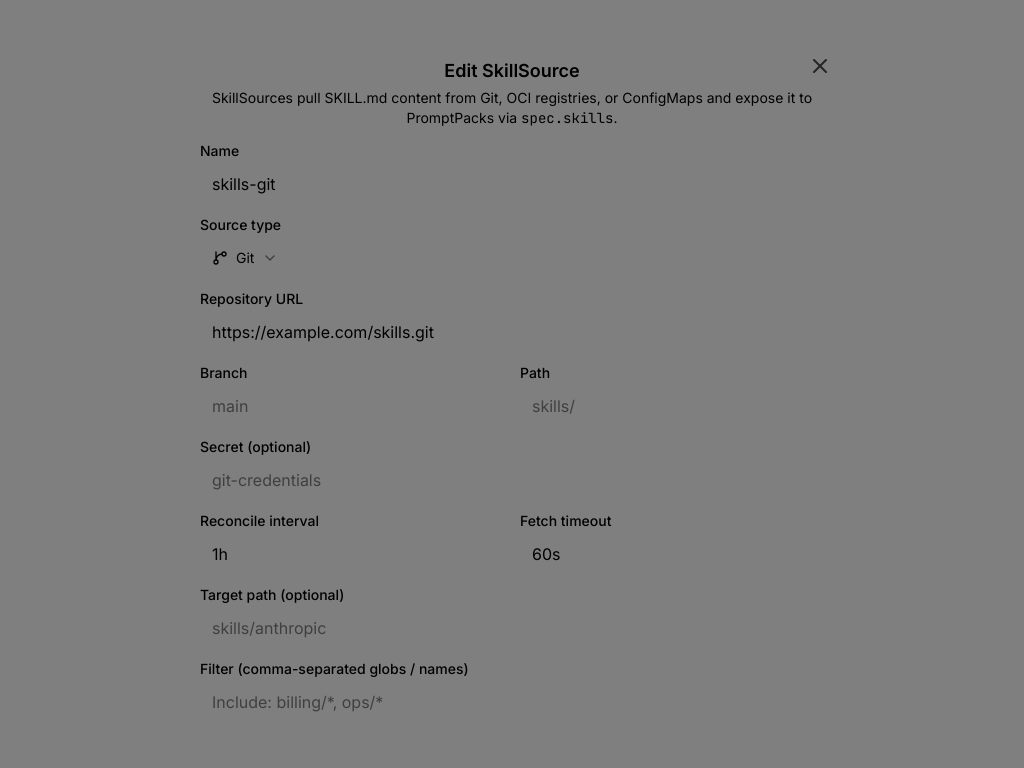
SkillSourceDialog › shows inline git URL error for non-matching pattern
Replace the text in the field labelled "Repository URL" with "not-a-url": (512, 332) [200,314,824,350]
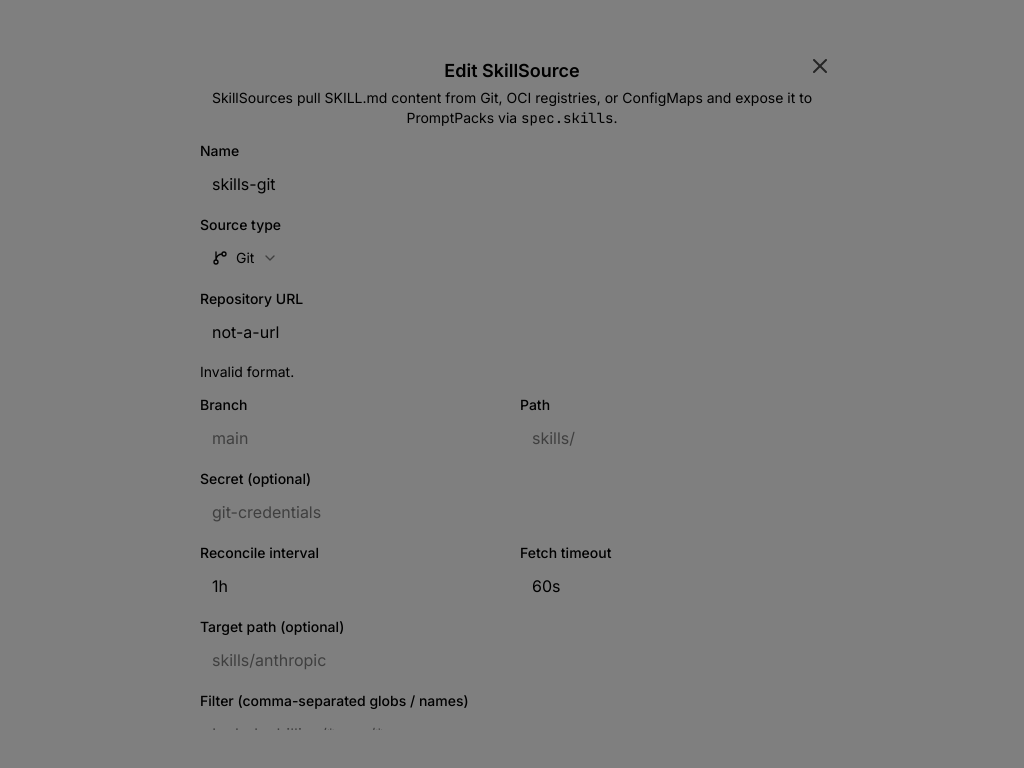
Expected: the text "Invalid format." is shown, [200,363,294,380]
